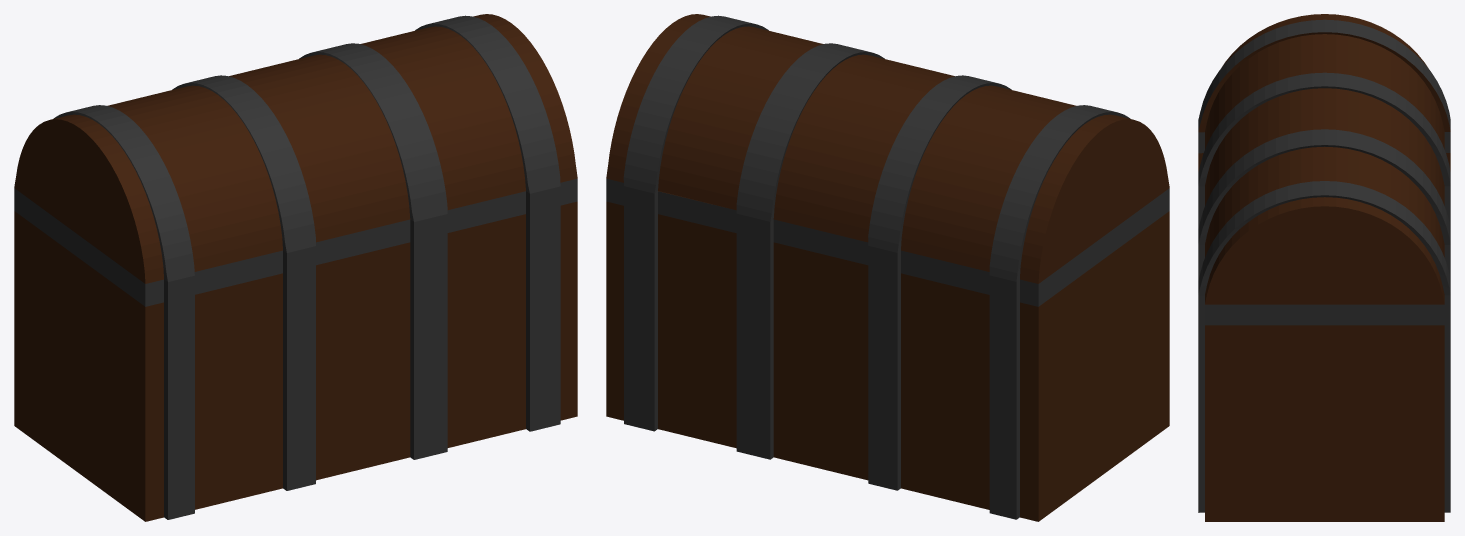
File: Chest.fbx
3 views of the same model, side by side, from view 1: azimuth 30°, elevation 25°; view 2: azimuth 150°, elevation 25°; view 3: azimuth 270°, elevation 25° (orthographic). The views are drawn at different scales.
Visible parts, largest first — view 1: Chest; view 2: Chest; view 3: Chest.
Part boxes in pixels (left/top/right/bottom): Chest: left=14, top=14, right=577, bottom=521; Chest: left=606, top=14, right=1169, bottom=521; Chest: left=1198, top=14, right=1450, bottom=521.
Size of the model in its own units: 380 by 292 by 210.
